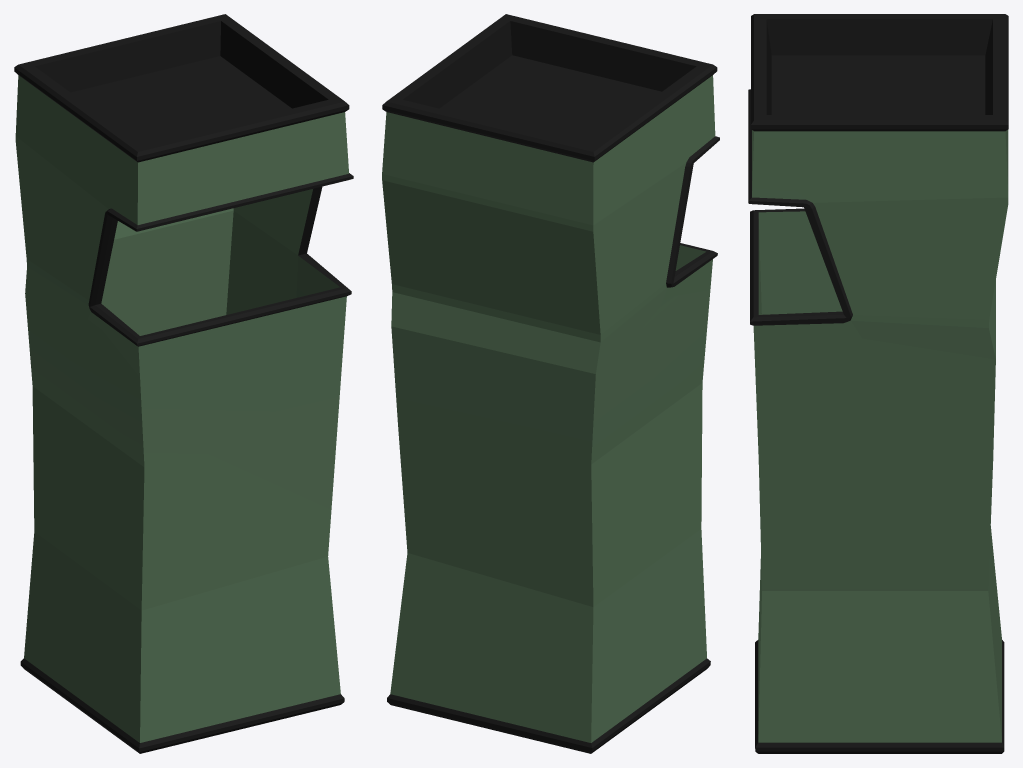
File: Papelera interior.fbx
The picture shows the model from 3 angles, left to right: view 1: azimuth 30°, elevation 25°; view 2: azimuth 150°, elevation 25°; view 3: azimuth 270°, elevation 25°; orthographic projection. The views are drawn at different scales.
Visible parts, largest first — view 1: Cube.002; view 2: Cube.002; view 3: Cube.002.
Boxes of the visible parts, left/top/right/bottom form: Cube.002: left=14, top=14, right=353, bottom=753; Cube.002: left=382, top=14, right=719, bottom=753; Cube.002: left=748, top=14, right=1008, bottom=753.
Size of the model in its own units: 45.56 by 120 by 44.48.
